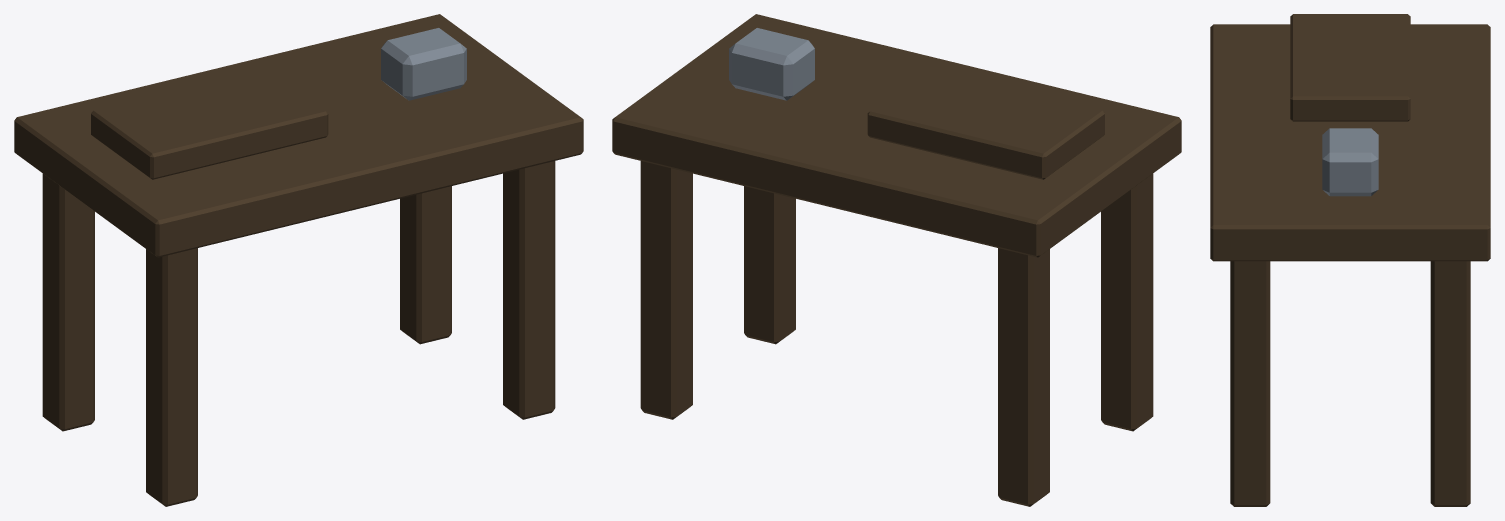
File: prp_station_workbench.glb
3 views of the same model, side by side, from view 1: azimuth 30°, elevation 25°; view 2: azimuth 150°, elevation 25°; view 3: azimuth 270°, elevation 25° (orthographic). The views are drawn at different scales.
Visible parts, largest first — view 1: prp_station_workbench; view 2: prp_station_workbench; view 3: prp_station_workbench.
Part boxes in pixels (x1,y1,x2,y2): prp_station_workbench: (14, 14, 583, 506); prp_station_workbench: (612, 14, 1181, 506); prp_station_workbench: (1210, 14, 1490, 506).
Size of the model in its own units: 1.2 by 0.92 by 0.7.
